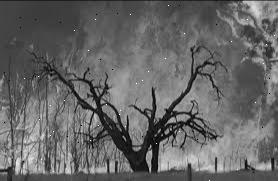fire: (0, 7, 132, 180), (172, 2, 278, 180)
